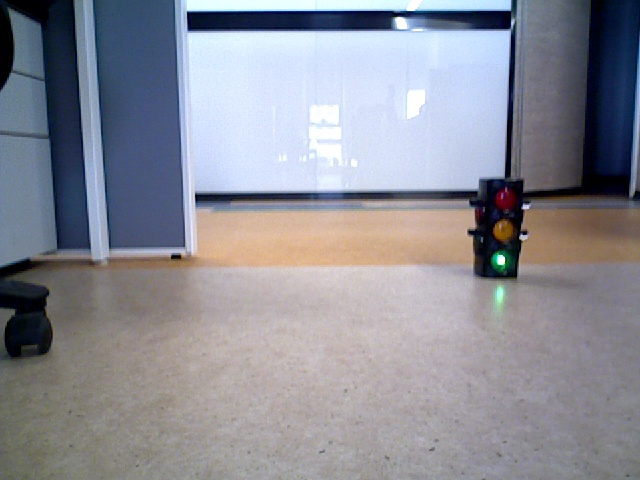green: (479, 178, 518, 273)
